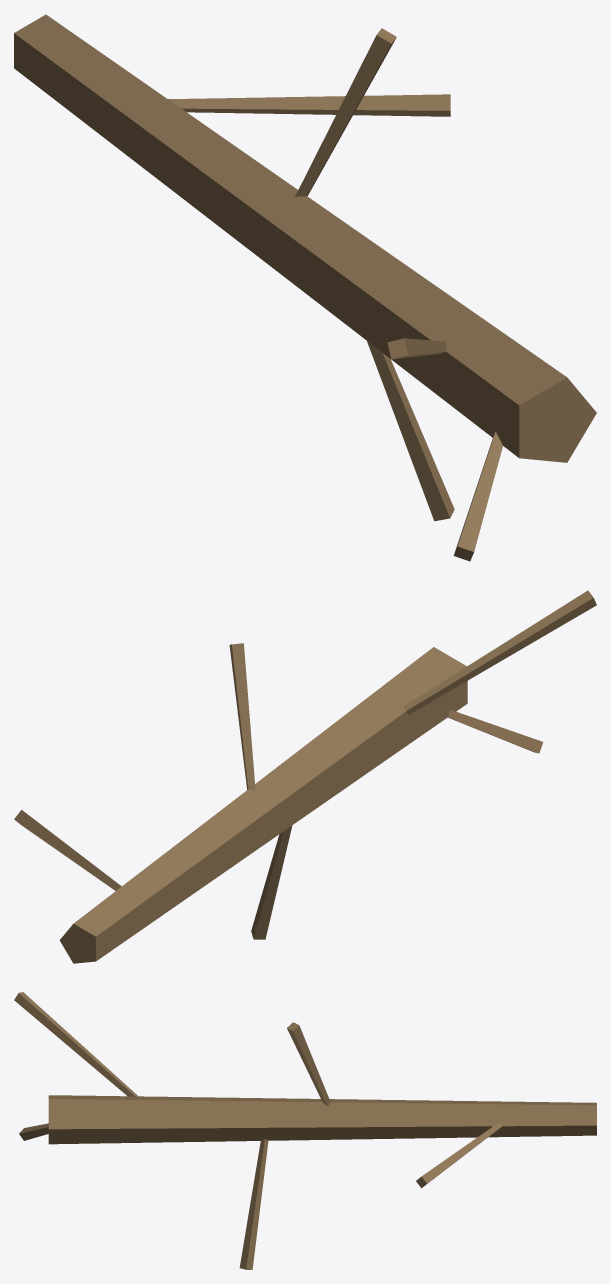
Rendered from dead_tree.glb.
The picture shows the model from 3 angles, top to bottom: view 1: azimuth 30°, elevation 25°; view 2: azimuth 150°, elevation 25°; view 3: azimuth 270°, elevation 25°; orthographic projection. The views are drawn at different scales.
Visible parts, largest first — view 1: geometry_0; view 2: geometry_0; view 3: geometry_0.
Part boxes in pixels (box(x1,y1,x2,y2)): geometry_0: box(14, 14, 596, 561); geometry_0: box(14, 590, 596, 963); geometry_0: box(14, 992, 596, 1269).
Size of the model in its own units: 1.24 by 1.22 by 2.66.
